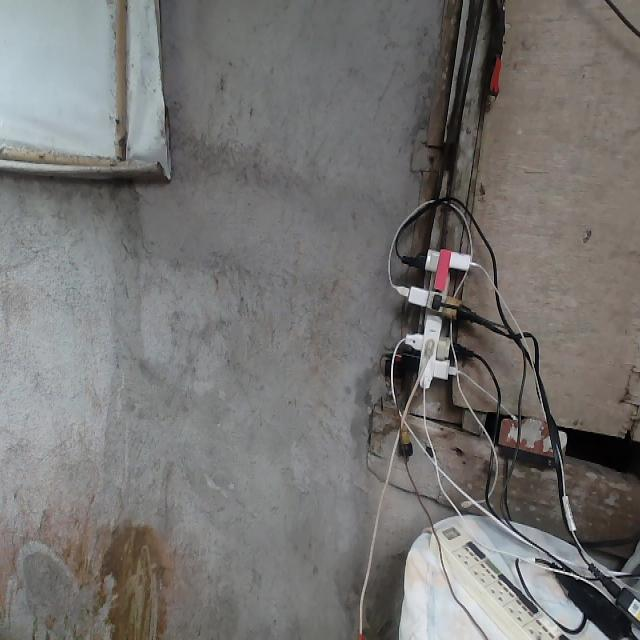-: (399, 242, 474, 390)
